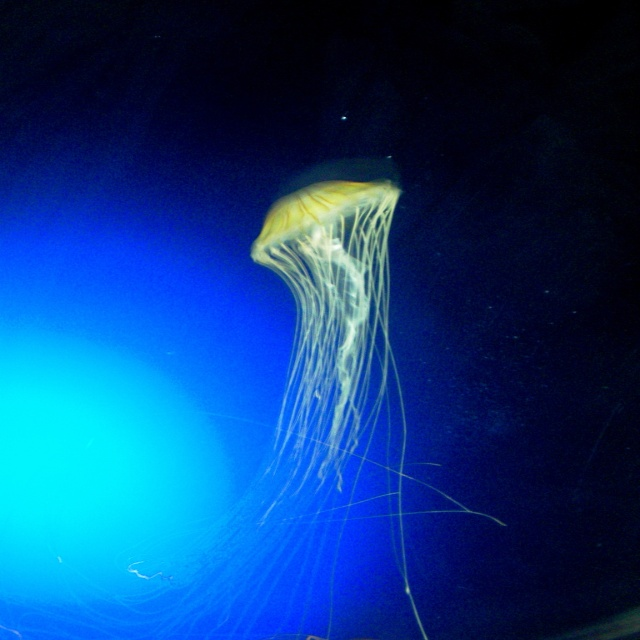Jellyfish: (0, 179, 505, 638)
